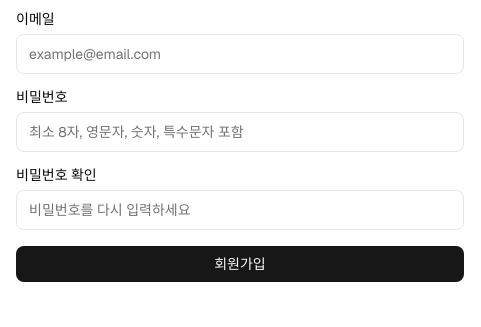
Scenario: SignUpForm › 비밀번호가 8자 미만일 때 유효성 검사 오류를 표시한다
Step 1. Type "123" into the password field labelled "비밀번호" → (240, 132), box [16,112,464,152]
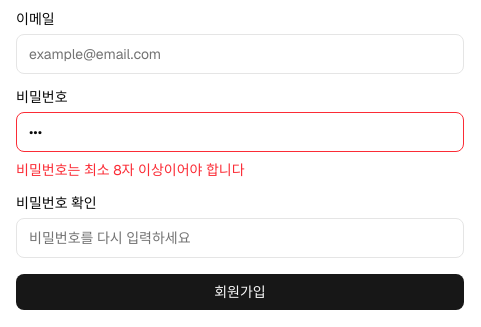
Now the text "비밀번호는 최소 8자 이상이어야 합니다" is shown, box [16,161,244,179]
